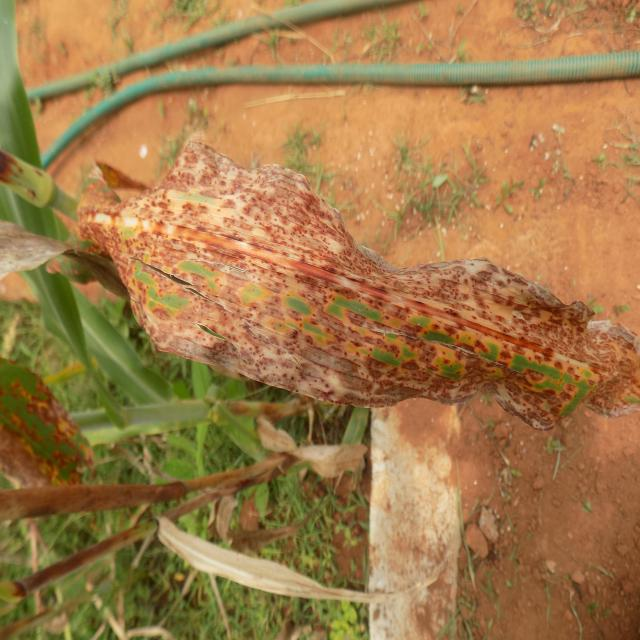millet_rust: (77, 140, 640, 428)
